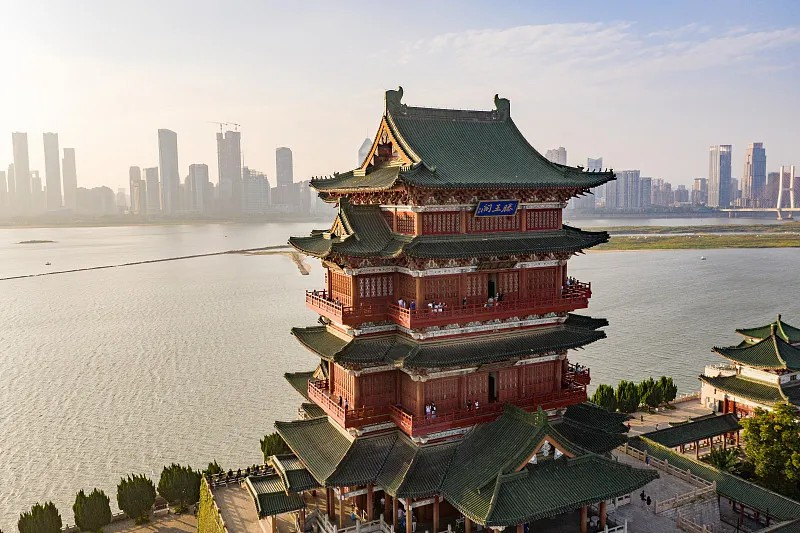Teng: (244, 85, 661, 533)
